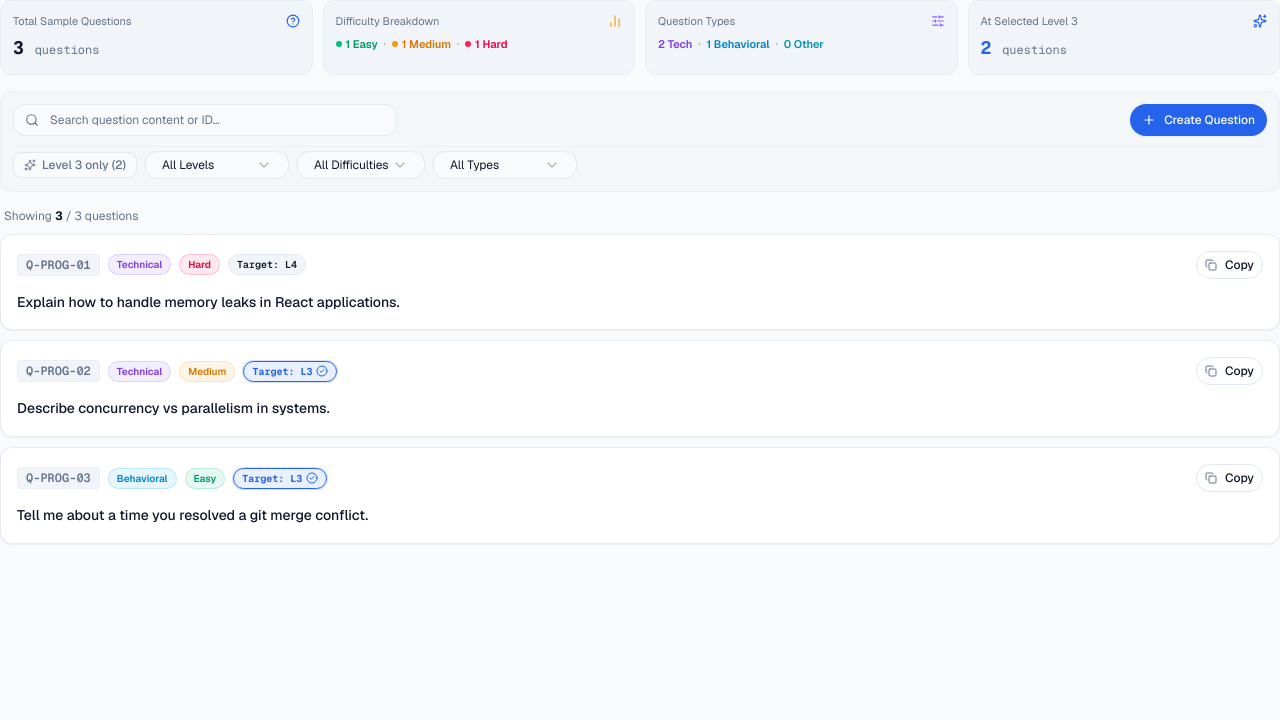
Scenario: SfiaQuestionBankTab › opens create question modal when clicking [+ Create Question]
Click the button "Create Question" at (1199, 120), box [1130, 104, 1267, 136]
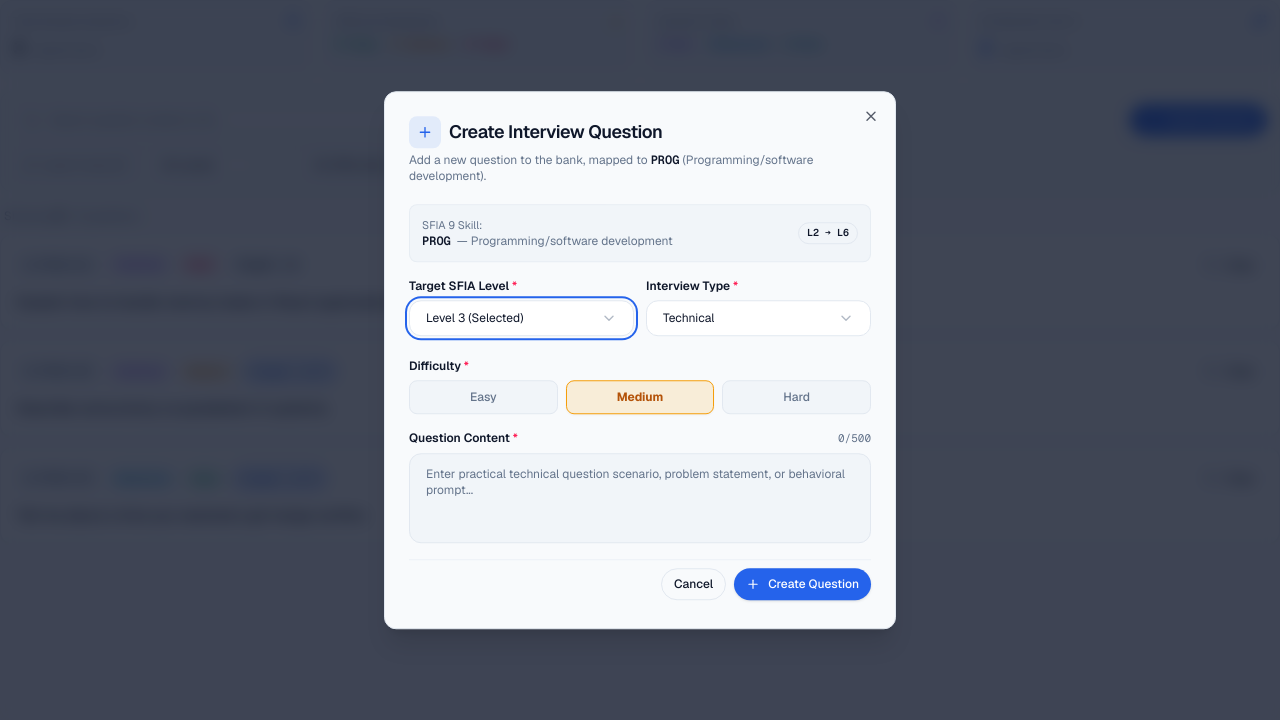
expect the heading "Create Interview Question" is shown: met, box [449, 118, 662, 146]
expect the text "Add a new question to the bank" is shown: met, box [409, 152, 648, 168]
